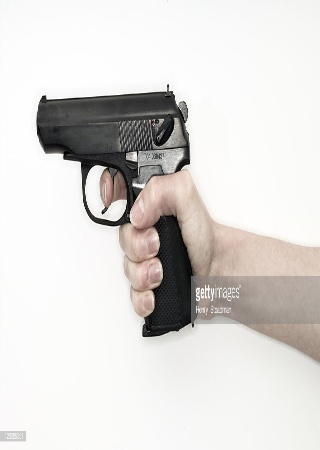handgun: (38, 83, 200, 338)
